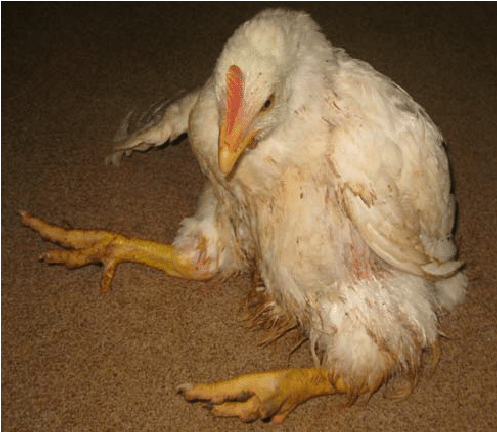Unhealthy: (19, 15, 473, 403)
